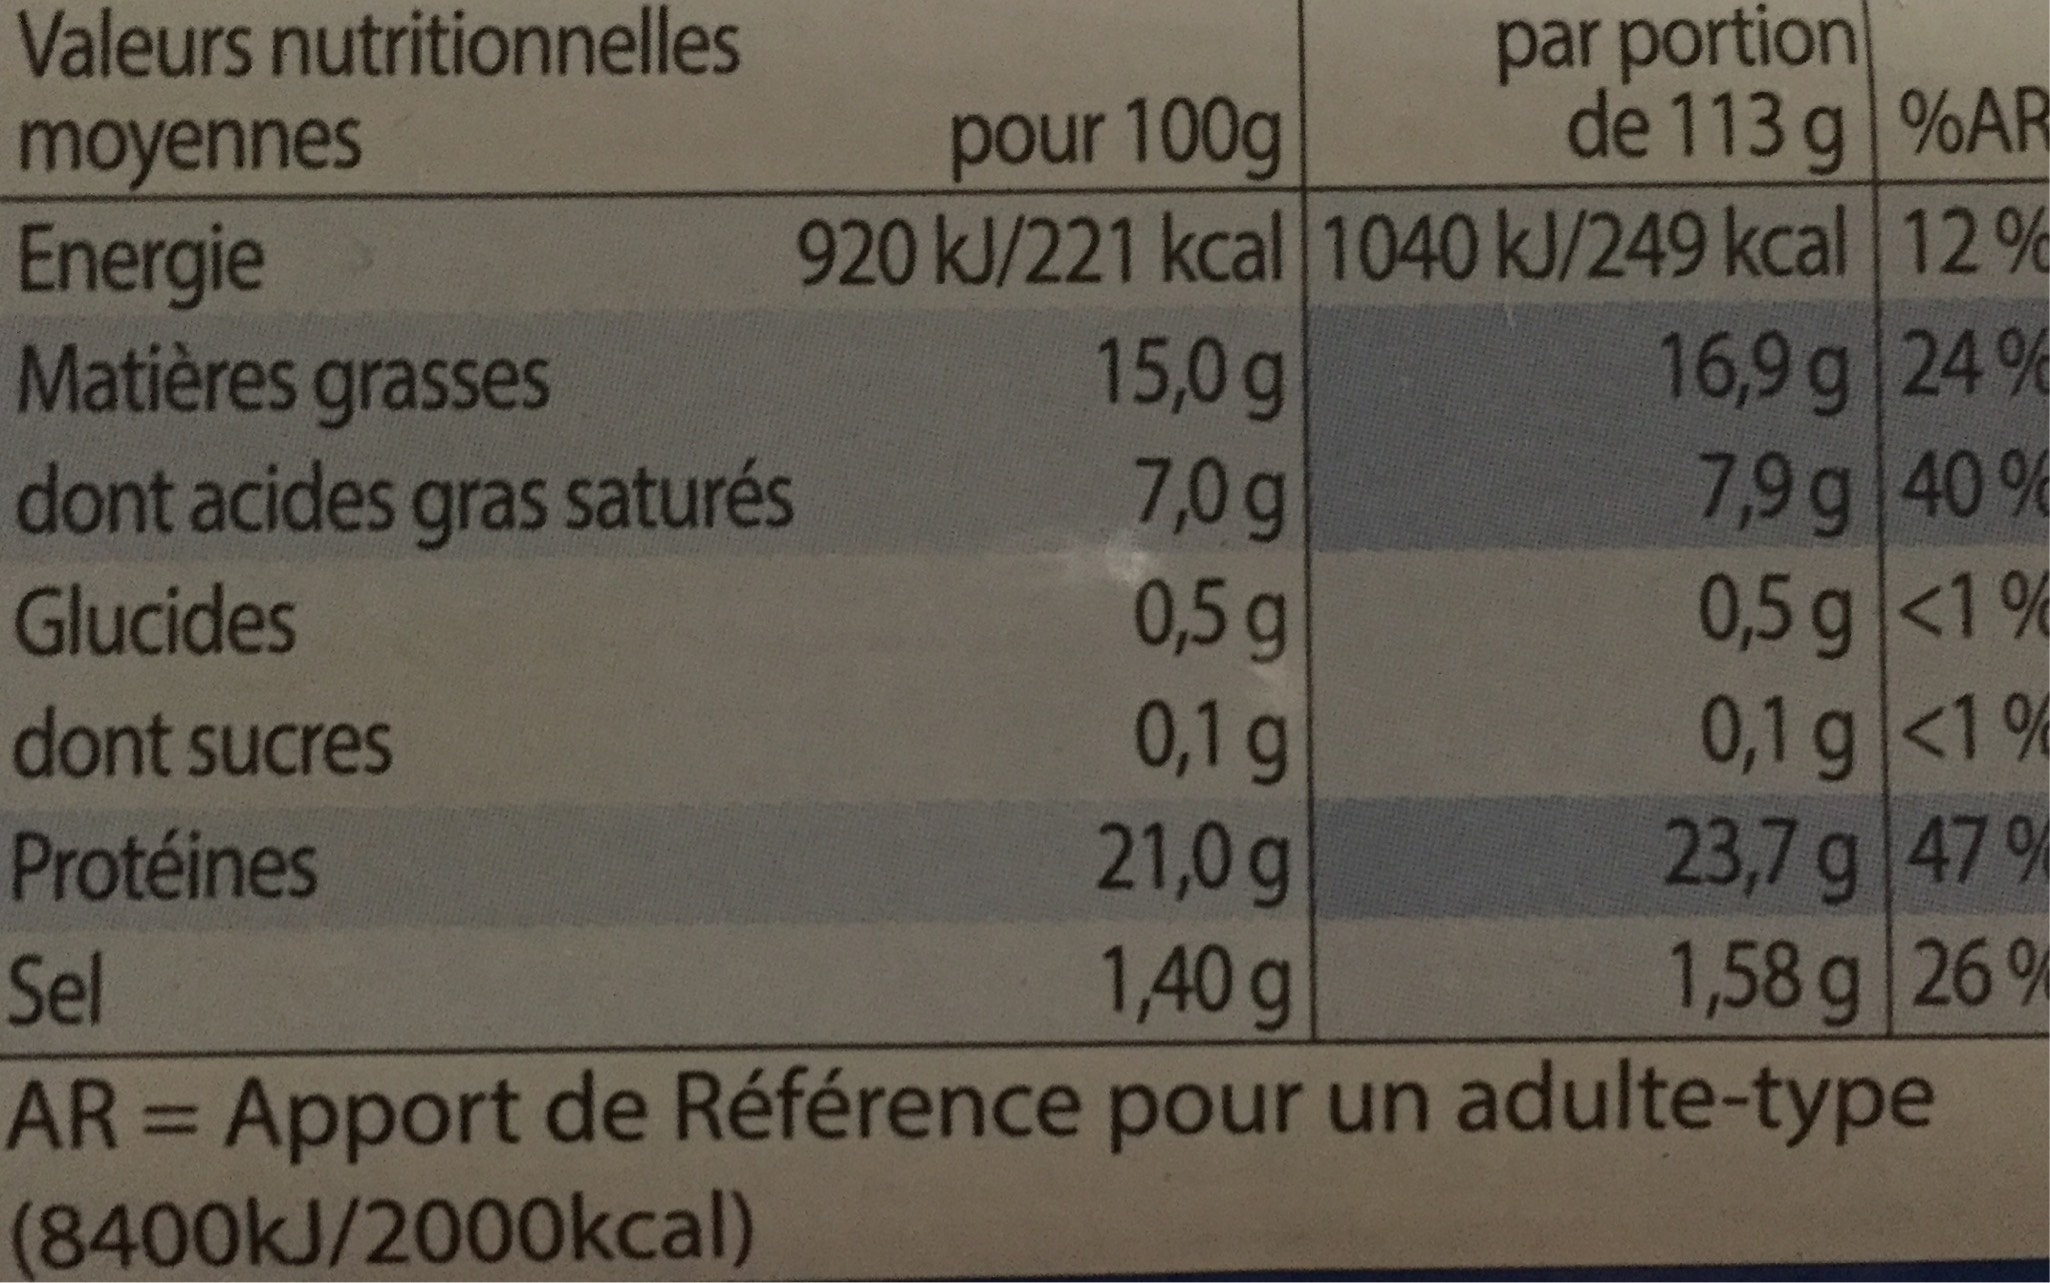column: (4, 219, 792, 1066), (1317, 1, 1868, 1064), (800, 96, 1295, 1035), (1893, 1, 2050, 1063)
table: (1, 1, 2050, 1063)
